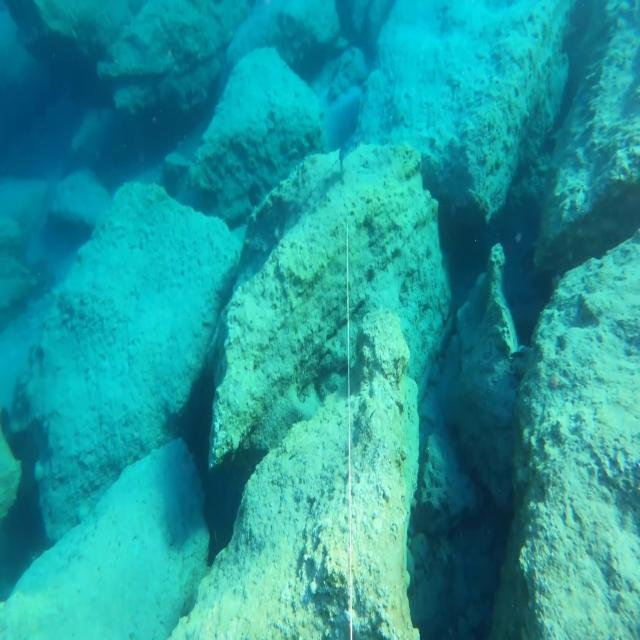Balon Baligi: (338, 134, 361, 165)
